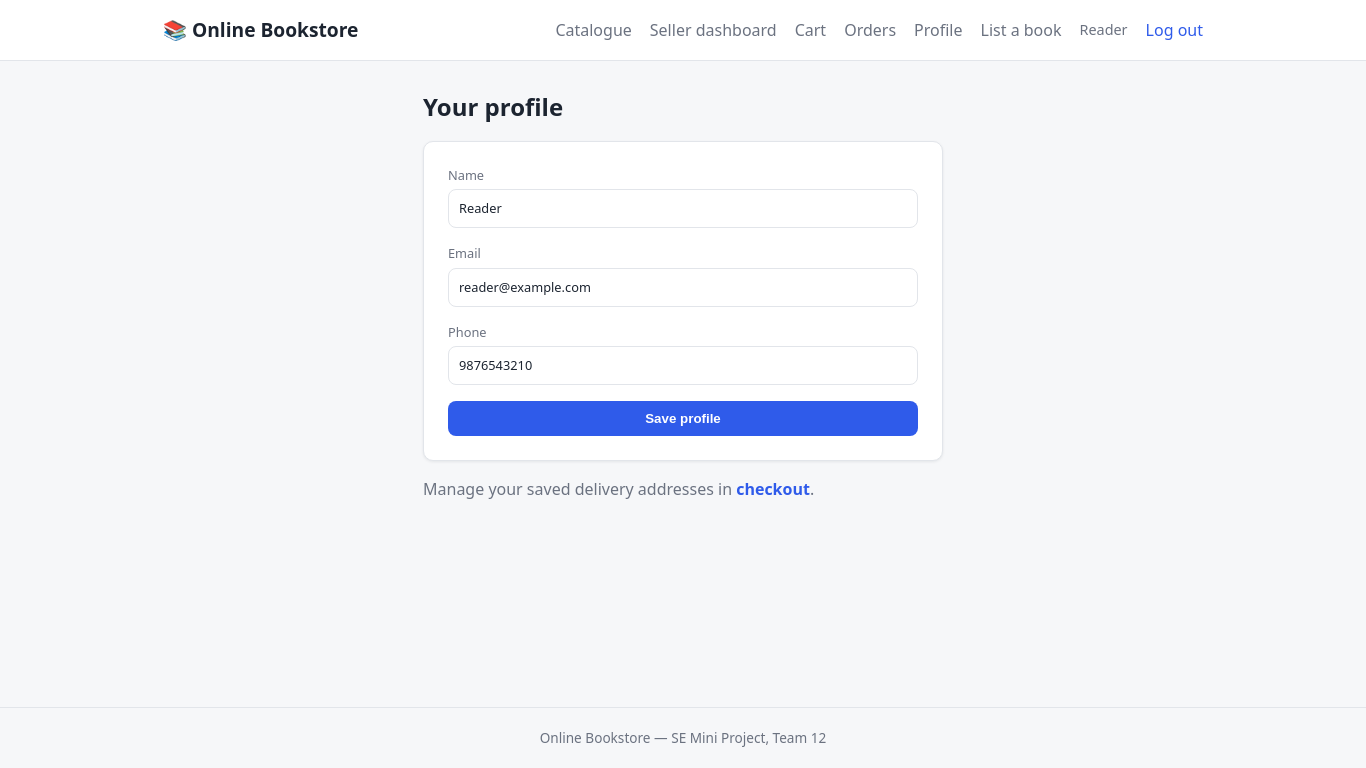
Test case: catalogue frontend › updates the authenticated profile
Replace the text in the field labelled "Name" with "Updated Reader" at (683, 209), box left=448, top=189, right=918, bottom=228
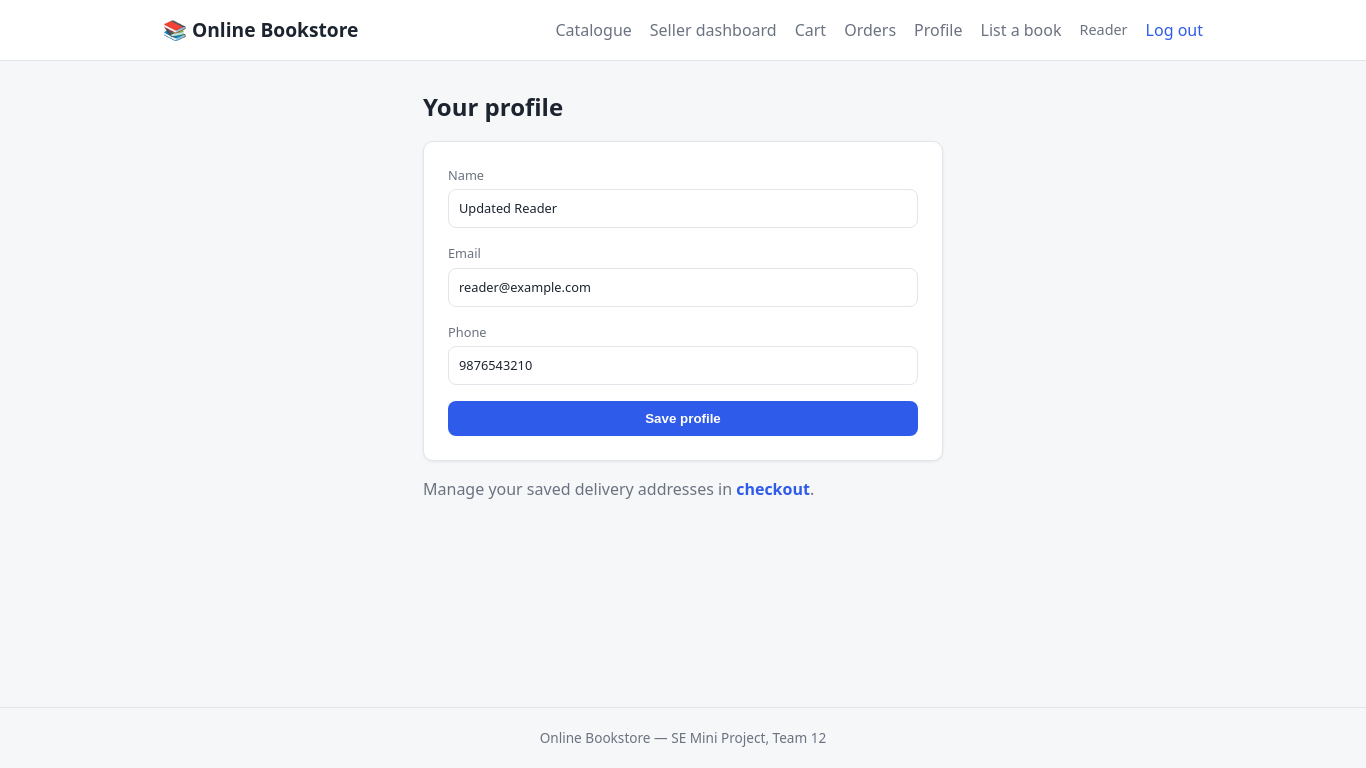
Click the button "Save profile" at (683, 419), box left=448, top=401, right=918, bottom=436
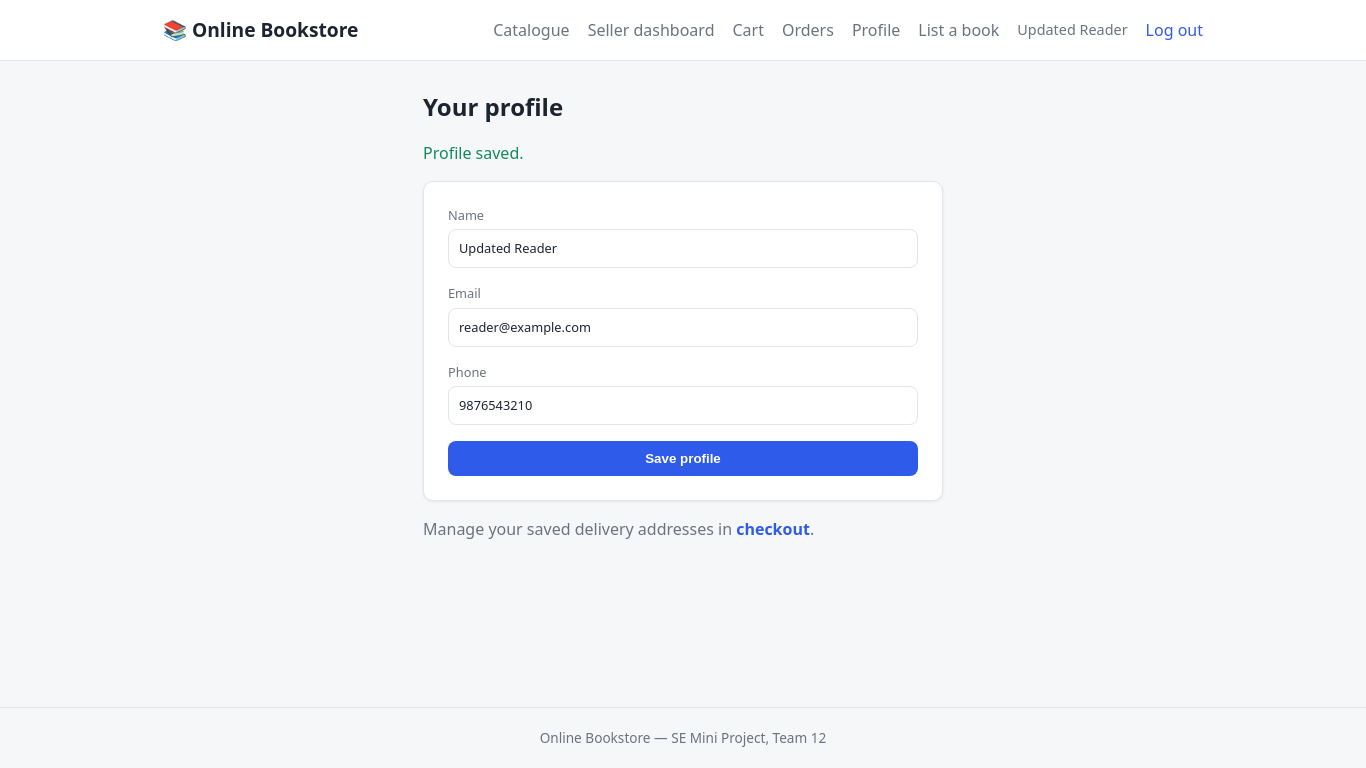
Check: the message reads "Profile saved.", box left=423, top=142, right=524, bottom=164
